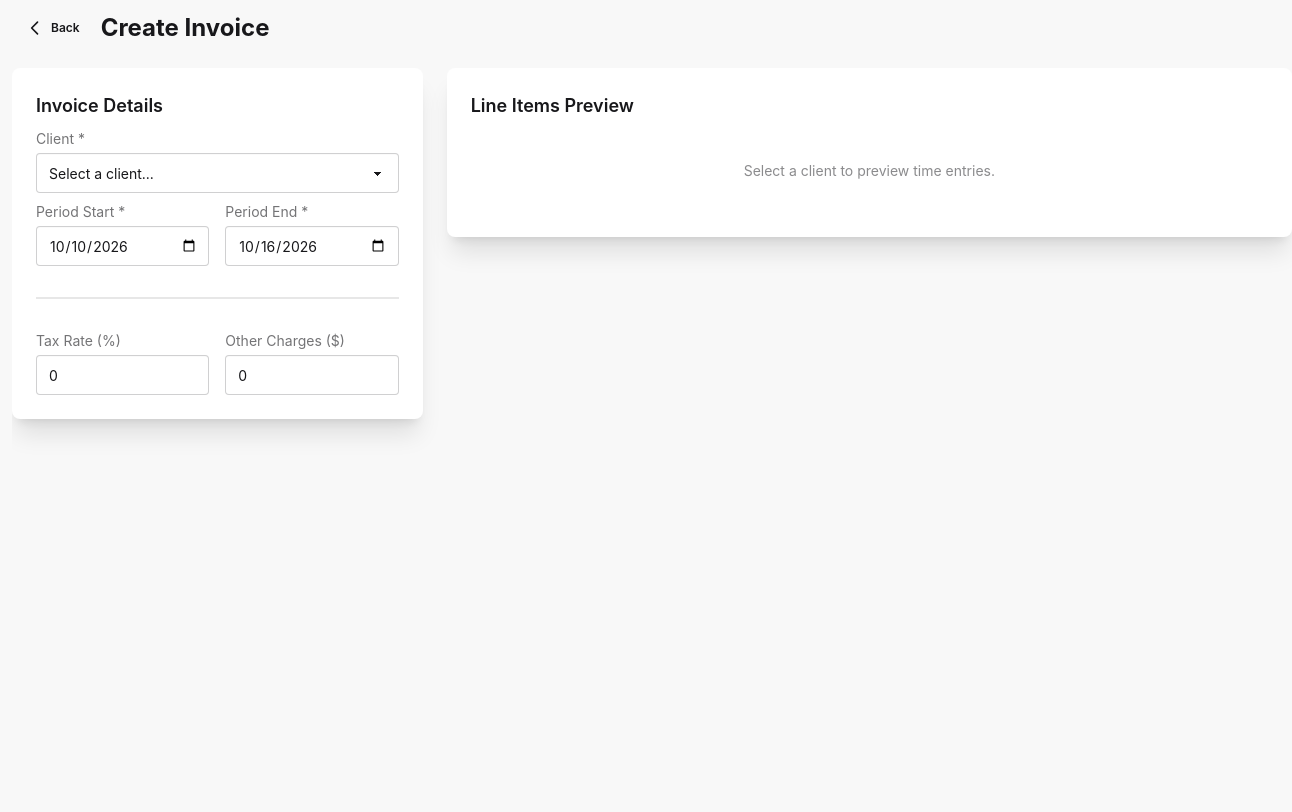
CreateInvoice - preview rendered › renders line items after preview success
The image size is (1292, 812).
Select "Acme Corp ($150.00/hr)" in the dropdown at (217,173), box left=36, top=153, right=399, bottom=193
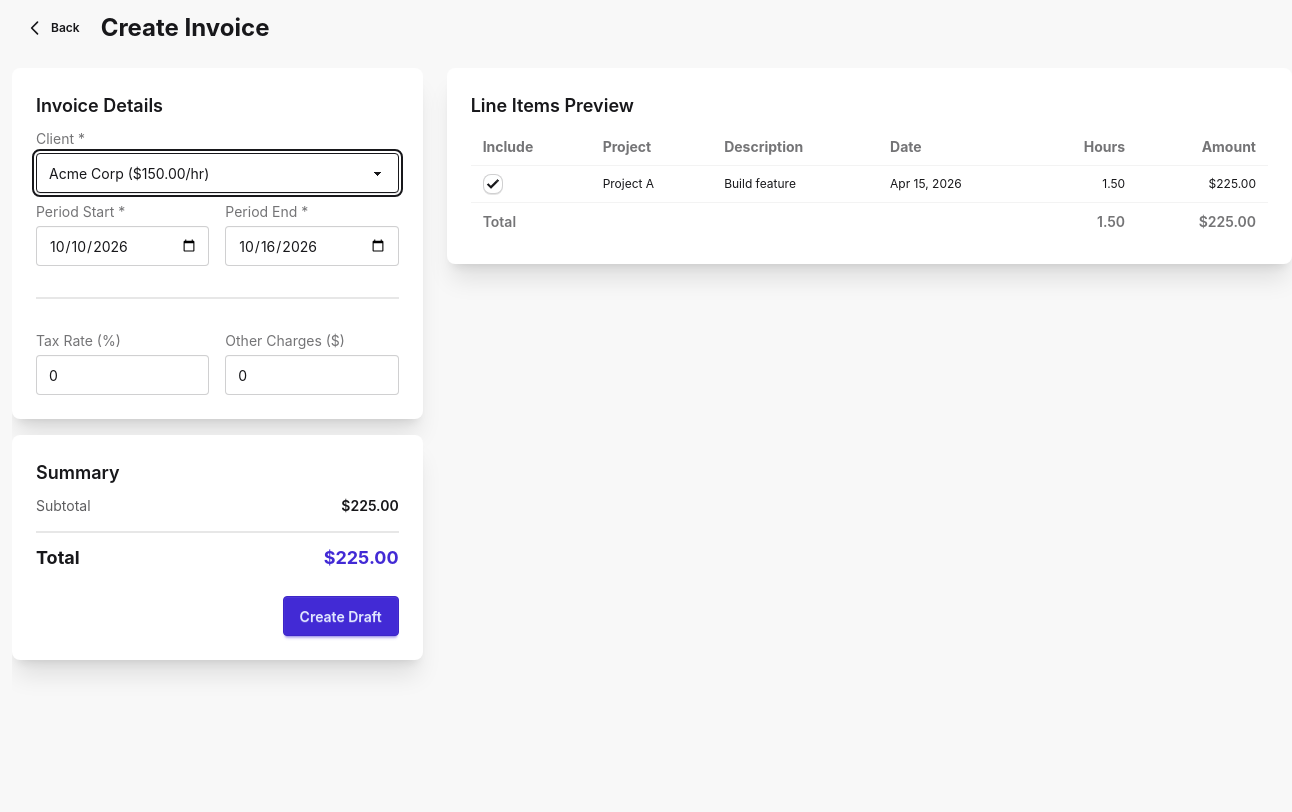
expect the text "Project A" is shown: met, box left=591, top=166, right=712, bottom=202
